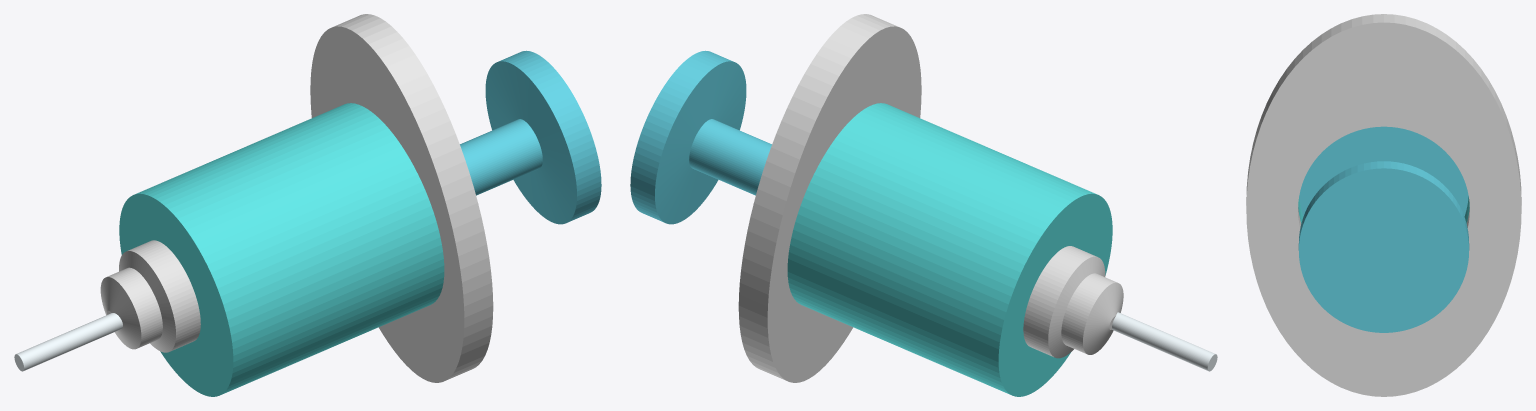
The model's file is Syringe_Body.fbx.
3 renders of one model, left to right at view 1: azimuth 30°, elevation 25°; view 2: azimuth 150°, elevation 25°; view 3: azimuth 270°, elevation 25°, orthographic. The views are drawn at different scales.
Parts seen in each view (by area): view 1: Body; view 2: Body; view 3: Body.
Part boxes in pixels (x1=…): Body: x1=14, y1=14, x2=601, y2=396; Body: x1=630, y1=14, x2=1217, y2=396; Body: x1=1246, y1=14, x2=1521, y2=396.
Bounding box in the file's own units: 729 × 457 × 325.
